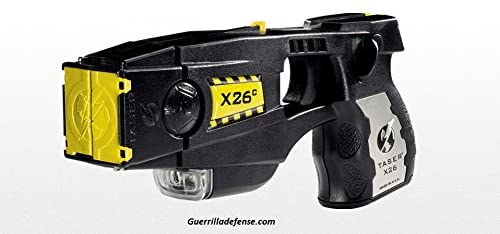Arma Falsa: (56, 12, 427, 203)
